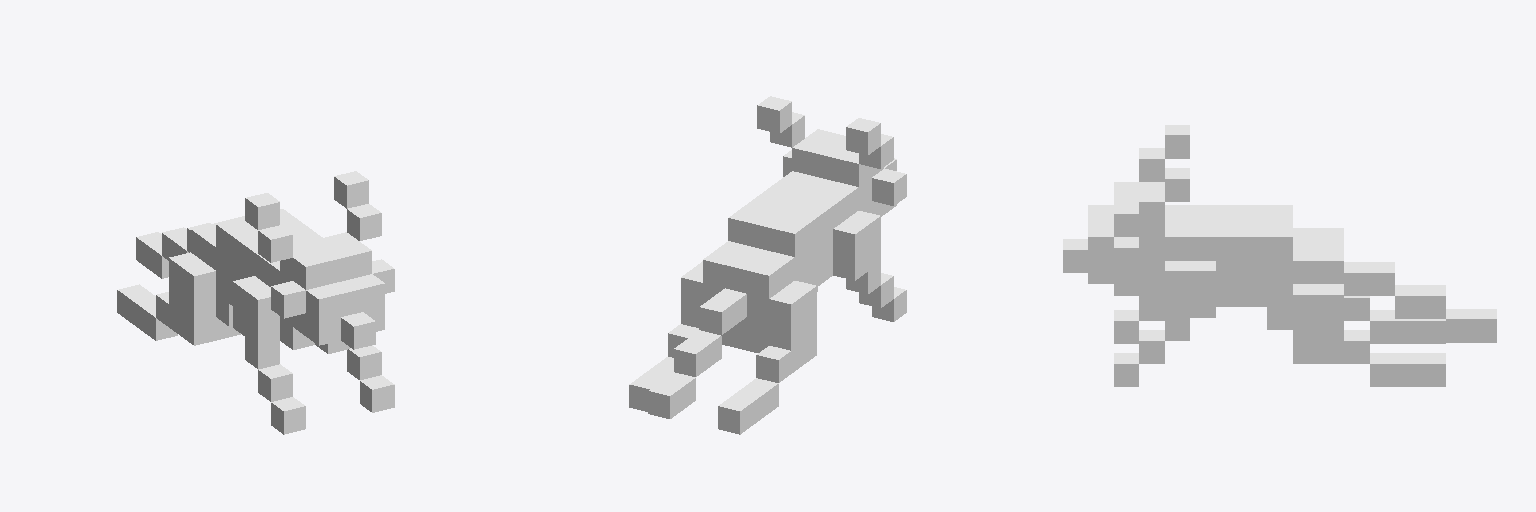
Rendered from rat_roll_0.obj.
3 renders of one model, left to right at view 1: azimuth 30°, elevation 25°; view 2: azimuth 150°, elevation 25°; view 3: azimuth 270°, elevation 25°, orthographic.
Parts seen in each view (by area): view 1: object 1; view 2: object 1; view 3: object 1.
Boxes of the visible parts, <box> form: object 1: <box>117,171,394,434</box>; object 1: <box>629,96,906,434</box>; object 1: <box>1063,125,1496,386</box>.
Size of the model in its own units: 0.5 by 0.9 by 1.7.